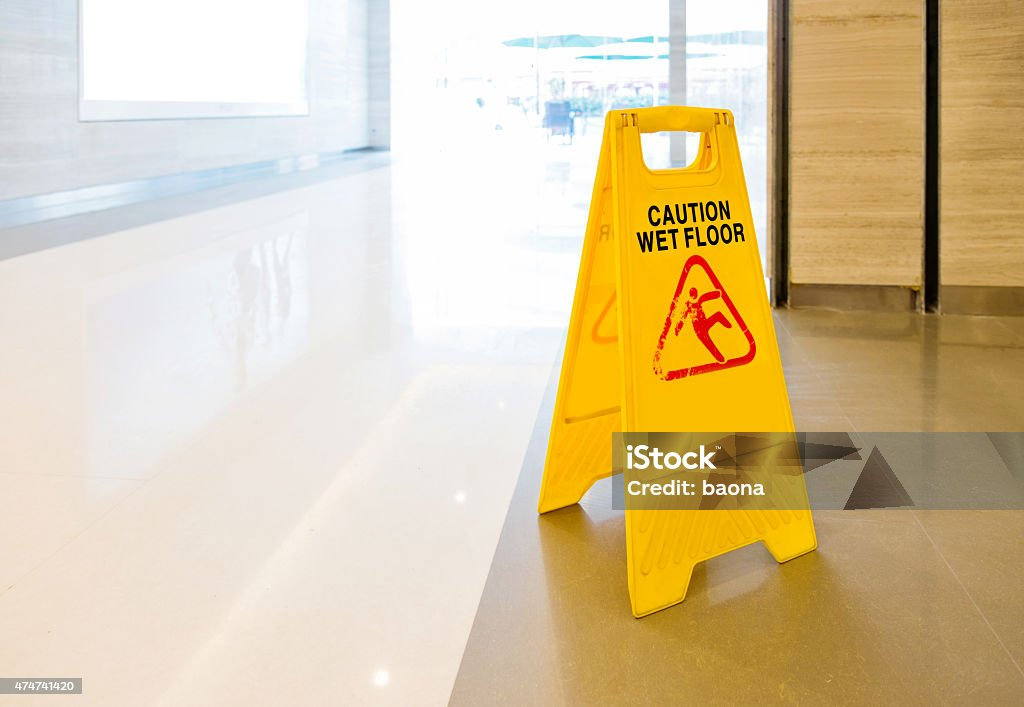wet caution sign: (542, 95, 838, 603)
